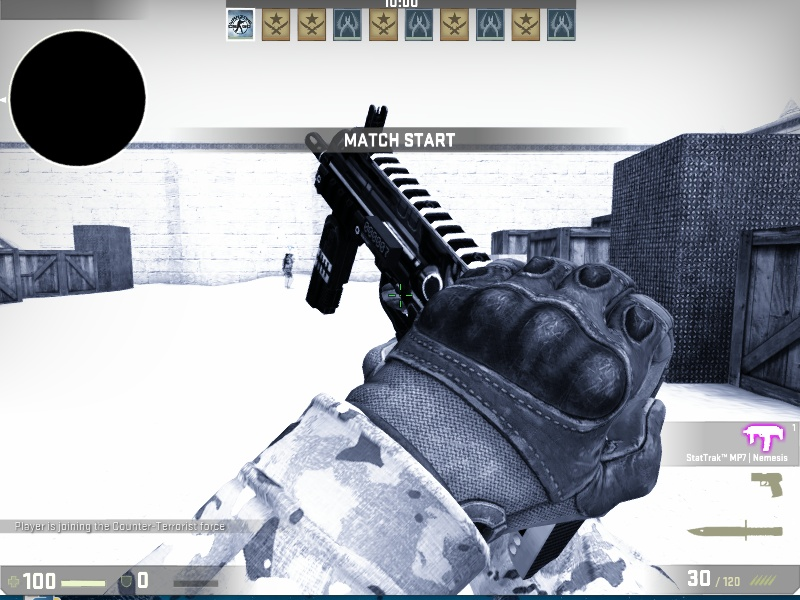ch 0.40: (372, 103, 382, 115)
